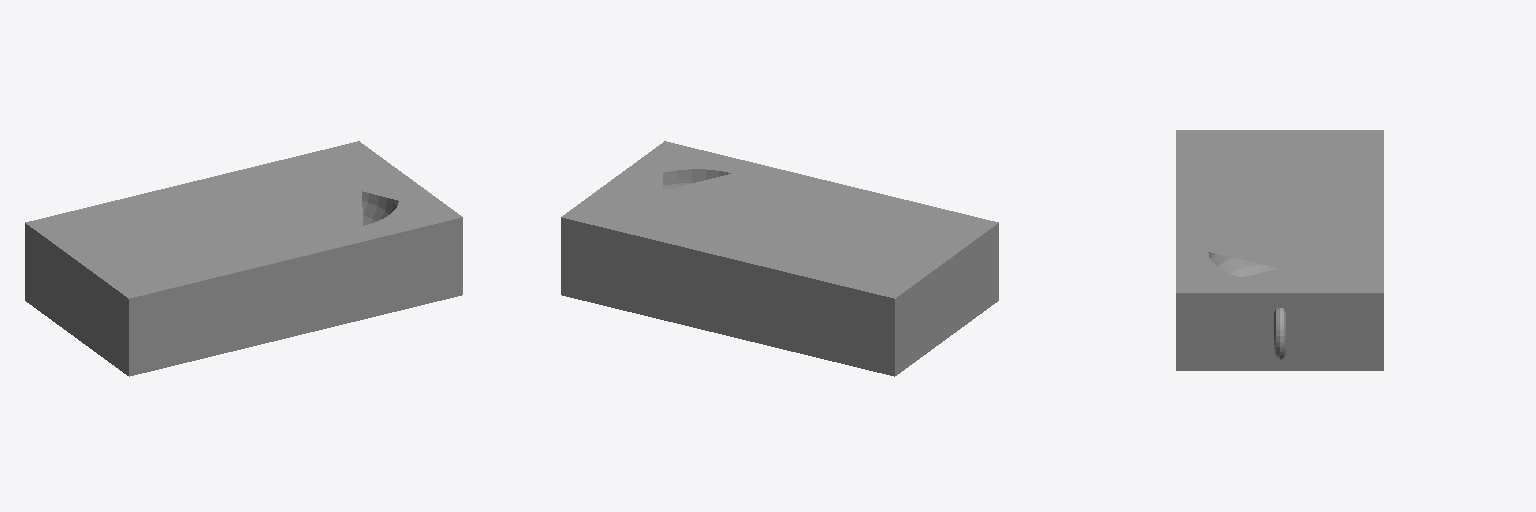
File: socle_jokari.obj
The picture shows the model from 3 angles: view 1: azimuth 30°, elevation 25°; view 2: azimuth 150°, elevation 25°; view 3: azimuth 270°, elevation 25°; orthographic projection.
Visible parts, largest first — view 1: Cube_Cube.001; view 2: Cube_Cube.001; view 3: Cube_Cube.001.
Part boxes in pixels (x1,y1,x2,y2): Cube_Cube.001: (25,141,462,376); Cube_Cube.001: (561,141,998,376); Cube_Cube.001: (1176,130,1383,370).
Bounding box in the file's own units: 3.97 × 0.8263 × 2.